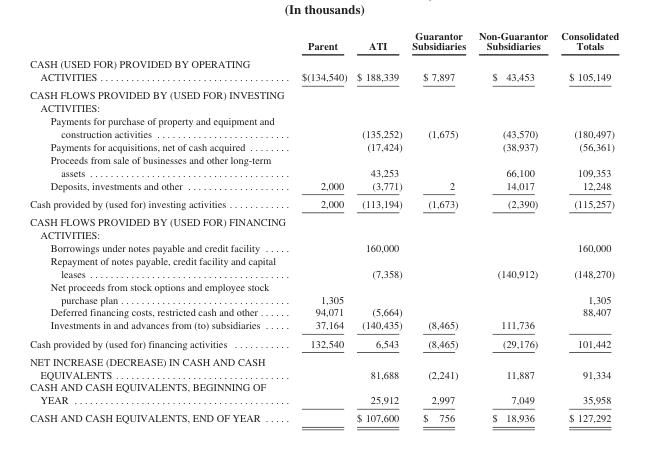table: (29, 29, 618, 423)
table column: (29, 29, 288, 423), (471, 29, 553, 423), (406, 29, 471, 423), (553, 29, 618, 423), (288, 29, 351, 423), (351, 29, 406, 423)
table column header: (29, 29, 618, 54)
table projected row header: (29, 85, 618, 114), (29, 212, 618, 240)
table row: (29, 54, 618, 85), (29, 85, 618, 114), (29, 212, 618, 240), (29, 352, 618, 380), (29, 380, 618, 408), (29, 114, 618, 140), (29, 253, 618, 279), (29, 279, 618, 305), (29, 29, 618, 54), (29, 153, 618, 178), (29, 333, 618, 352), (29, 194, 618, 212), (29, 178, 618, 194), (29, 318, 618, 333), (29, 408, 618, 423), (29, 140, 618, 153), (29, 240, 618, 253), (29, 305, 618, 318)
